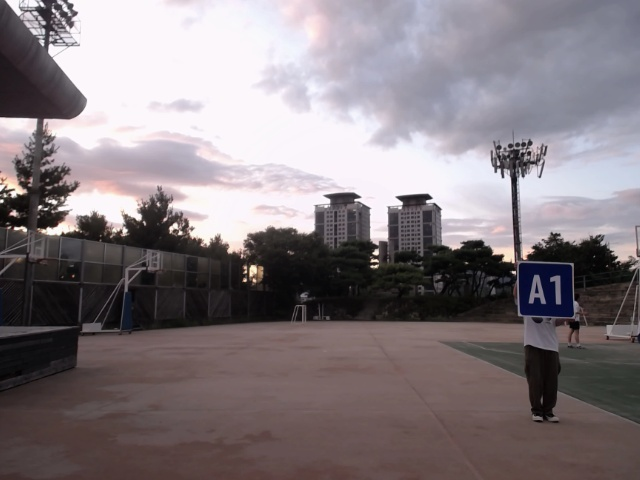delivery_a1: (518, 262, 574, 319)
